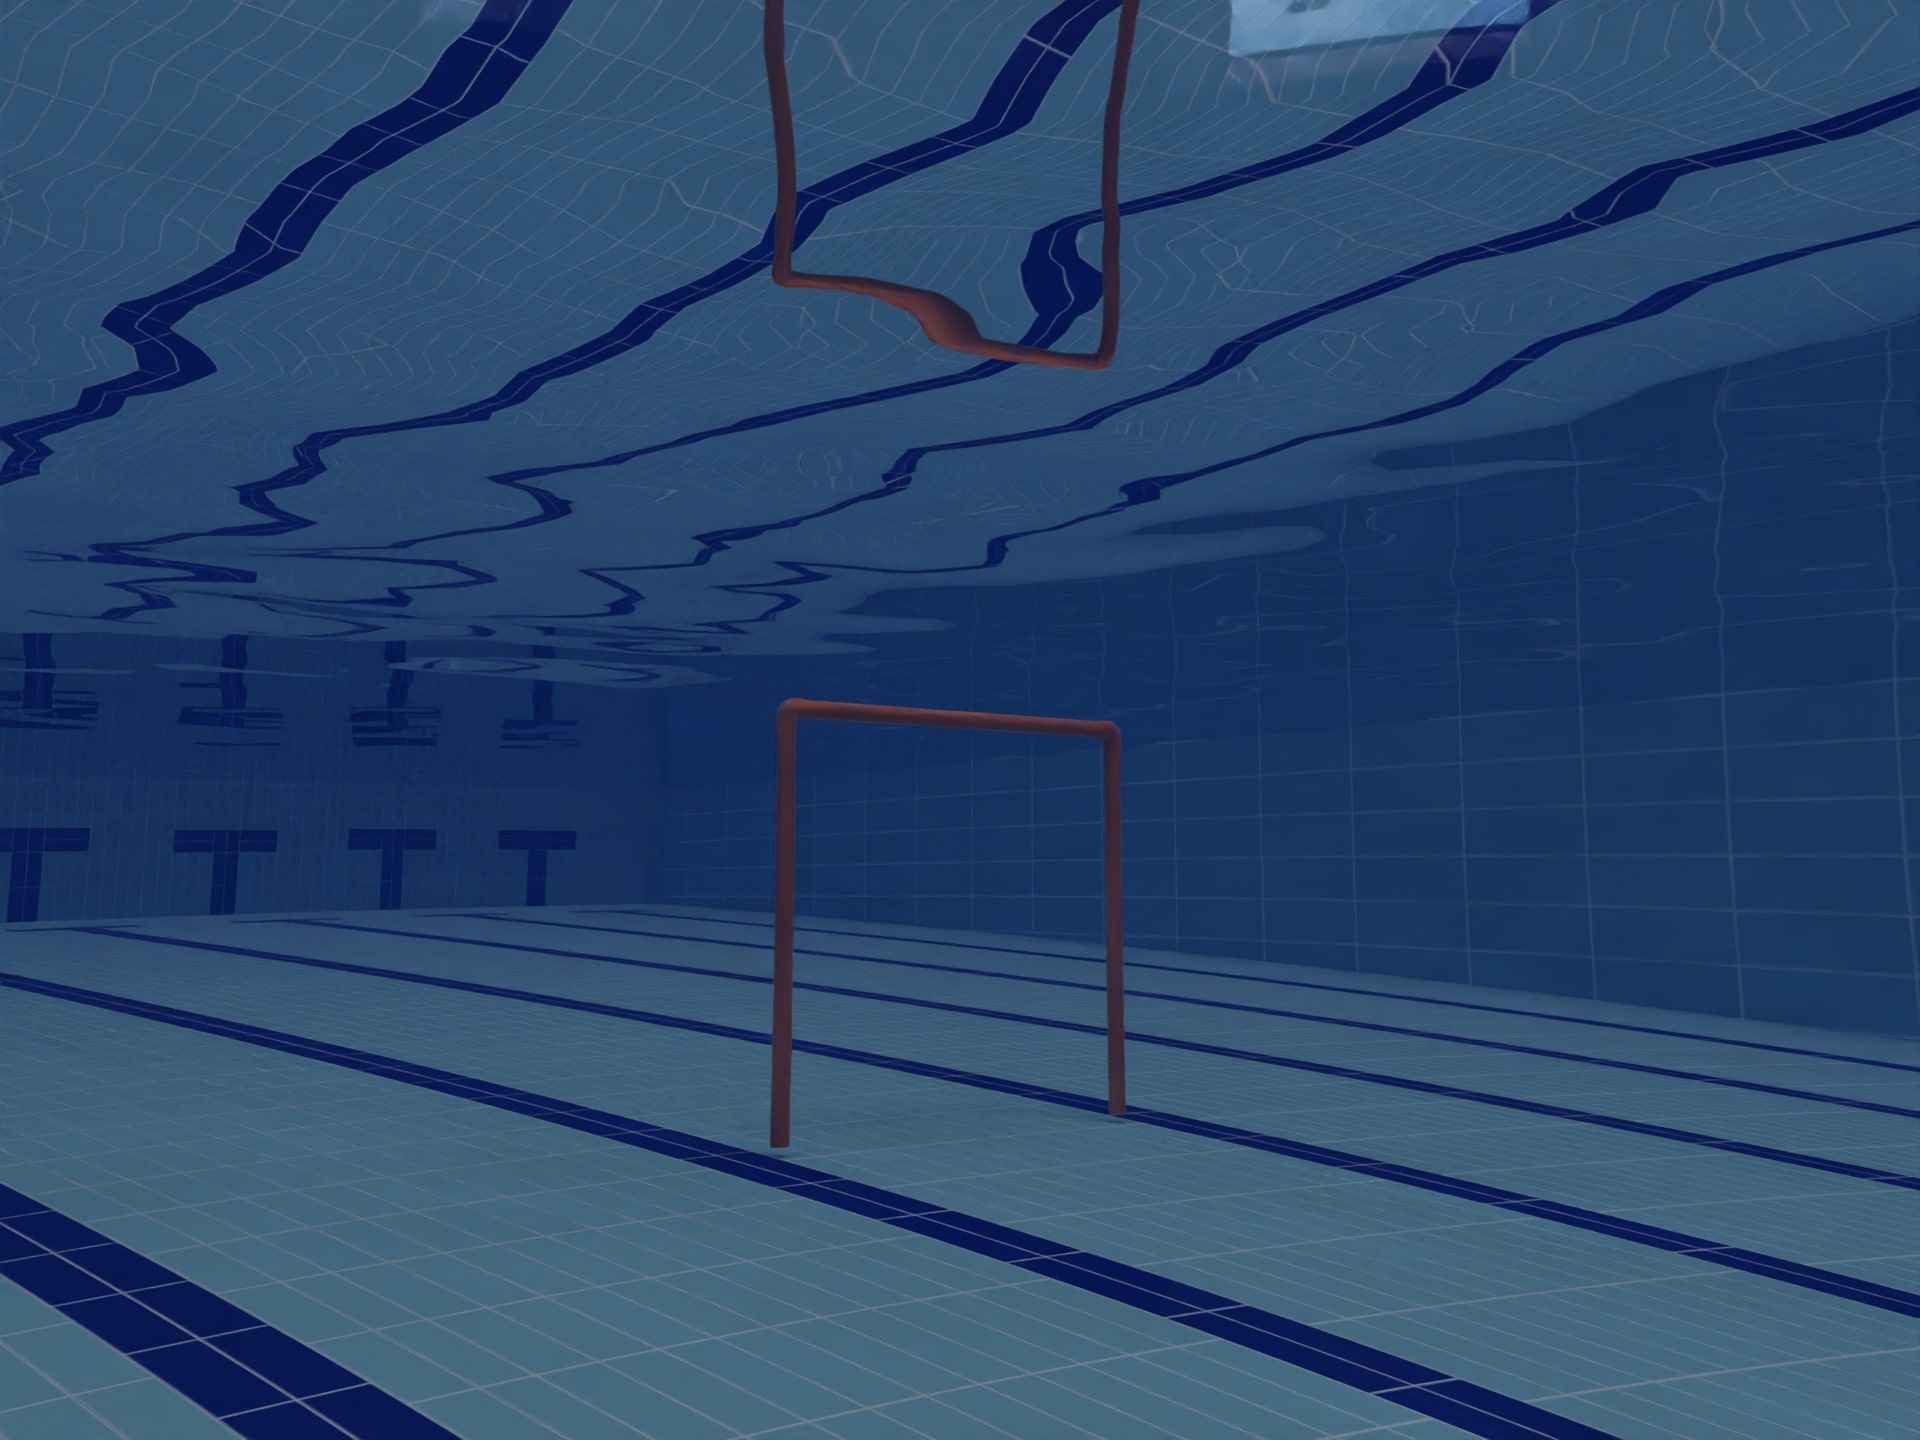gate: (727, 663, 1191, 1166)
